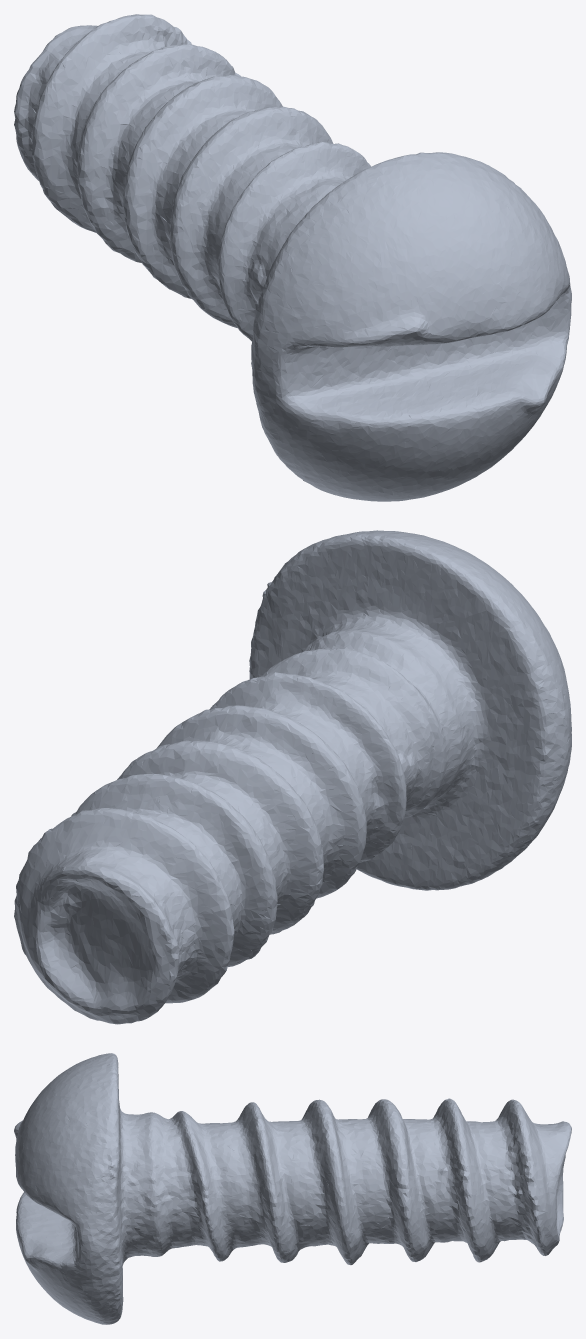
File: micro-screw.glb
3 renders of one model, top to bottom at view 1: azimuth 30°, elevation 25°; view 2: azimuth 150°, elevation 25°; view 3: azimuth 270°, elevation 25°, orthographic. The views are drawn at different scales.
Visible parts, largest first — view 1: geometry_0; view 2: geometry_0; view 3: geometry_0.
Boxes of the visible parts, left/top/right/bottom form: geometry_0: left=14, top=14, right=571, bottom=501; geometry_0: left=14, top=530, right=571, bottom=1024; geometry_0: left=14, top=1053, right=571, bottom=1324.
Bounding box in the file's own units: 0.4718 × 0.4906 × 1.
